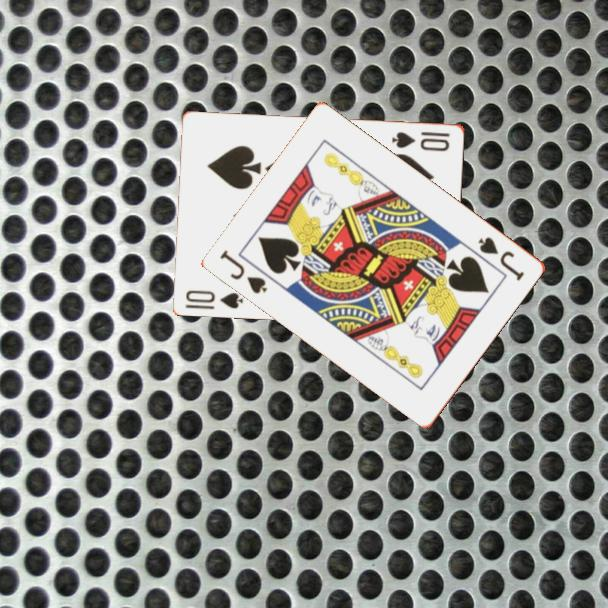s10: (389, 128, 453, 154), (182, 286, 246, 312)
s11: (217, 246, 271, 297), (475, 233, 528, 284)
